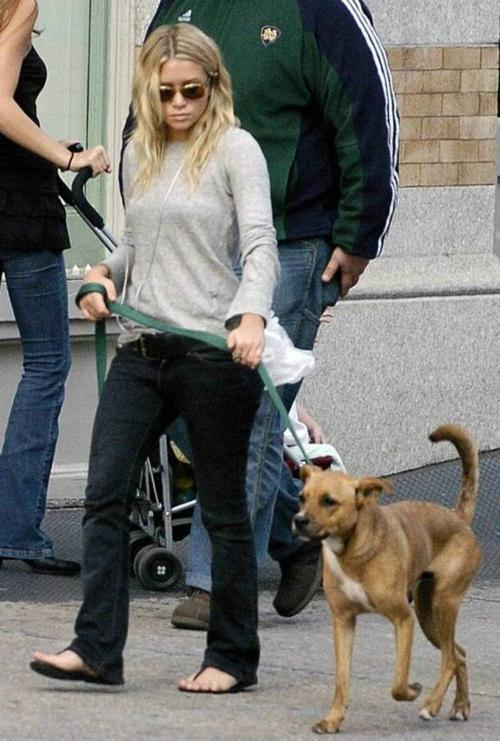person: (33, 26, 278, 694)
